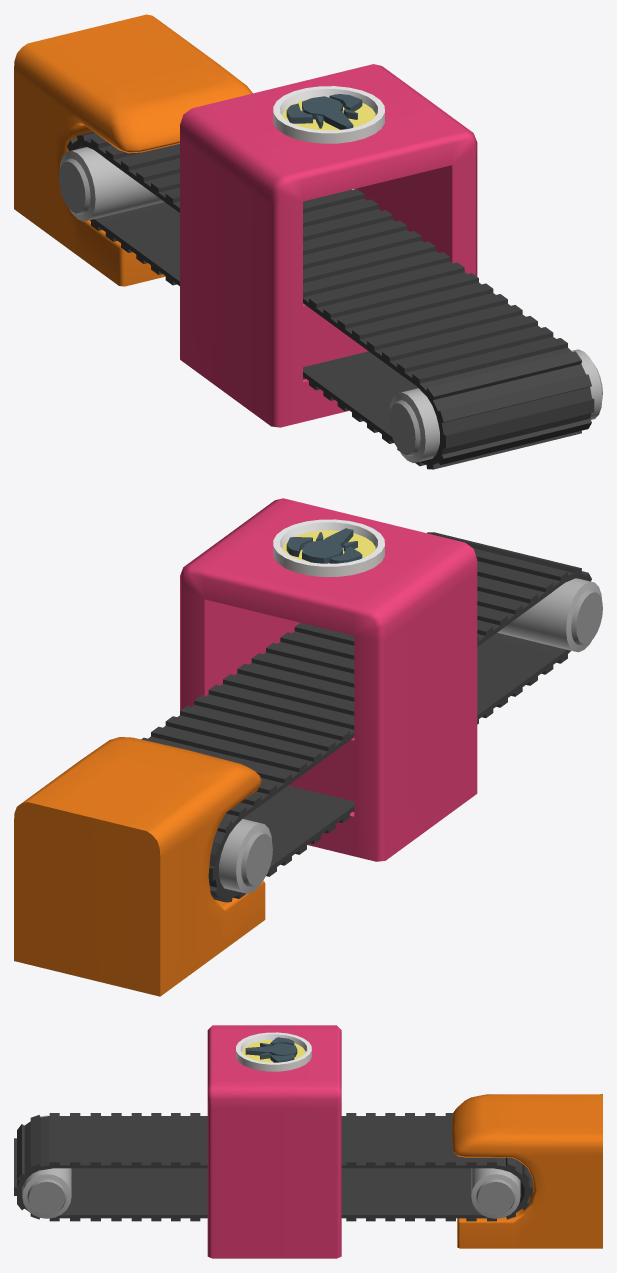
File: maysxquanao_voi.fbx
The picture shows the model from 3 angles, top to bottom: view 1: azimuth 30°, elevation 25°; view 2: azimuth 150°, elevation 25°; view 3: azimuth 270°, elevation 25°; orthographic projection. The views are drawn at different scales.
Parts seen in each view (by area): view 1: than_may, banh_rang, duoi_may, truc_xoay, polySurface1570; view 2: than_may, duoi_may, banh_rang, truc_xoay, polySurface1570; view 3: banh_rang, than_may, duoi_may, truc_xoay, polySurface1570.
Boxes of the visible parts, bbox=[...] form: than_may: bbox=[180, 64, 477, 427]; banh_rang: bbox=[67, 131, 594, 469]; duoi_may: bbox=[14, 14, 252, 286]; truc_xoay: bbox=[58, 147, 602, 462]; polySurface1570: bbox=[273, 86, 384, 143]; than_may: bbox=[180, 498, 477, 861]; duoi_may: bbox=[14, 737, 265, 996]; banh_rang: bbox=[141, 532, 591, 902]; truc_xoay: bbox=[219, 578, 602, 893]; polySurface1570: bbox=[273, 519, 384, 576]; banh_rang: bbox=[14, 1113, 532, 1221]; than_may: bbox=[207, 1025, 341, 1258]; duoi_may: bbox=[452, 1094, 602, 1248]; truc_xoay: bbox=[22, 1115, 520, 1218]; polySurface1570: bbox=[236, 1032, 311, 1071].
Bounding box in the file's own units: 417 × 501 × 1520.
